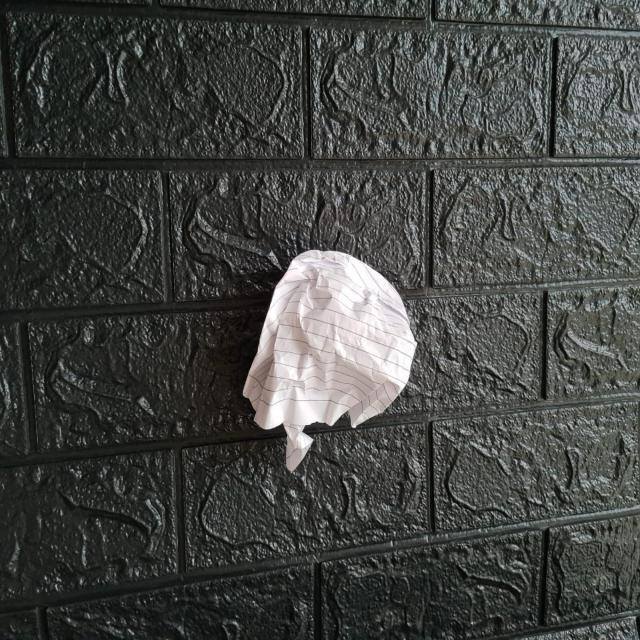cardboard paper: (242, 249, 414, 470)
